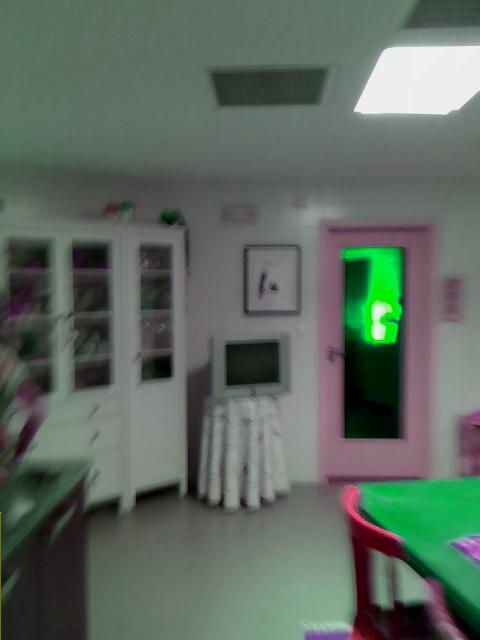closed_door: (320, 218, 432, 480)
